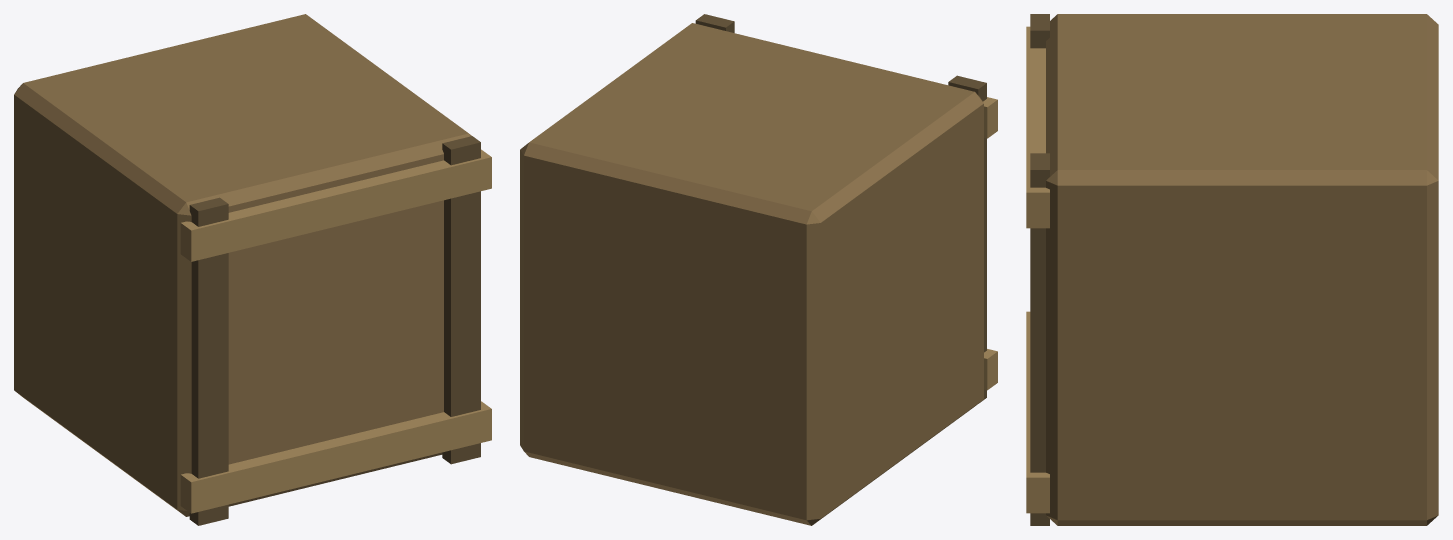
Rendered from crate.glb.
3 views of the same model, side by side, from view 1: azimuth 30°, elevation 25°; view 2: azimuth 150°, elevation 25°; view 3: azimuth 270°, elevation 25° (orthographic). The views are drawn at different scales.
Visible parts, largest first — view 1: crate; view 2: crate; view 3: crate.
Boxes of the visible parts, box(x1,y1,x2,y2) form: crate: box(14, 14, 491, 525); crate: box(520, 14, 997, 525); crate: box(1026, 14, 1438, 525).
Size of the model in its own units: 2 by 2 by 2.1.
